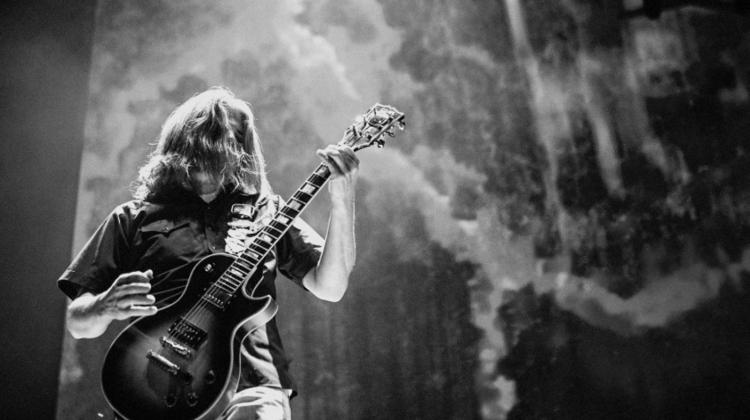acousticguitar: (99, 100, 406, 418)
